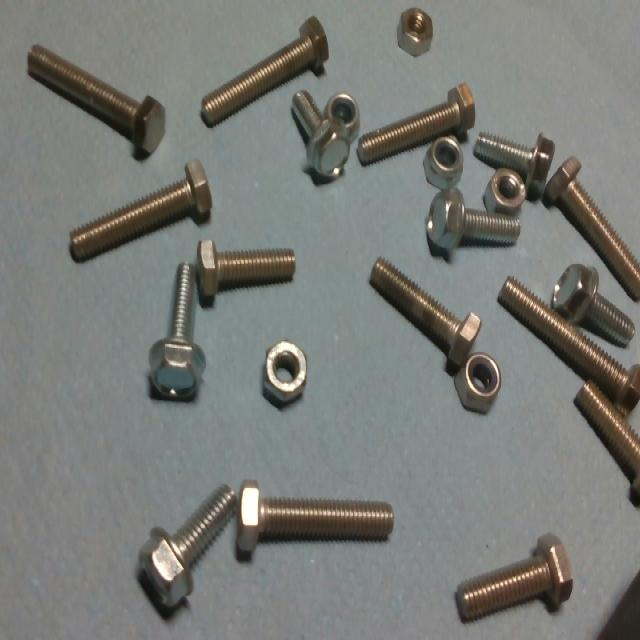Bolt: (496, 277, 638, 424), (26, 45, 164, 160), (199, 17, 329, 128), (69, 161, 212, 261), (543, 159, 638, 299), (139, 484, 237, 611), (367, 257, 482, 365), (237, 481, 393, 552), (455, 533, 572, 621), (355, 84, 475, 167), (573, 379, 638, 505), (147, 263, 204, 400), (551, 265, 634, 349), (426, 187, 521, 260), (193, 240, 296, 307), (472, 132, 555, 199), (293, 91, 350, 176)
Nut: (452, 353, 501, 416), (263, 341, 305, 404), (423, 136, 464, 192), (482, 169, 526, 213), (396, 8, 432, 60), (325, 92, 361, 139)
